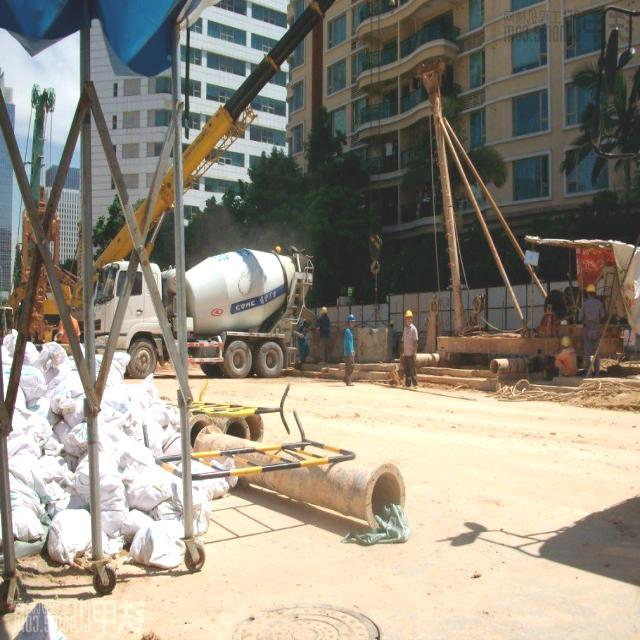head_helmet: (585, 283, 597, 295), (403, 308, 418, 317), (560, 336, 572, 347), (348, 312, 359, 322), (320, 304, 330, 314), (275, 246, 282, 253)
person: (339, 309, 369, 388), (582, 280, 604, 365), (399, 308, 422, 388), (51, 301, 81, 348), (317, 304, 333, 366), (554, 334, 577, 373), (269, 240, 290, 258)
